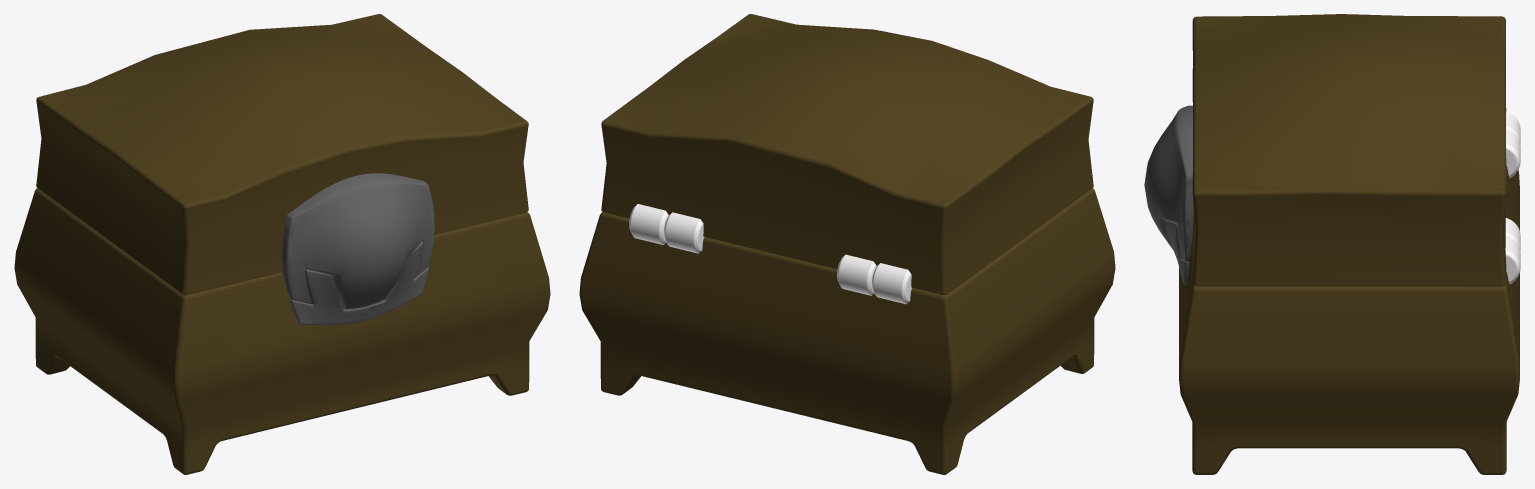
The model's file is chest.glb.
The picture shows the model from 3 angles, left to right: view 1: azimuth 30°, elevation 25°; view 2: azimuth 150°, elevation 25°; view 3: azimuth 270°, elevation 25°; orthographic projection. The views are drawn at different scales.
Visible parts, largest first — view 1: lid, chest, lock top, lock bottom; view 2: lid, chest, hinges; view 3: lid, chest, lock top, hinges, lock bottom.
Part boxes in pixels (bbox=[...]): lid: bbox=[36, 14, 528, 294]; chest: bbox=[14, 188, 550, 474]; lock top: bbox=[282, 173, 434, 309]; lock bottom: bbox=[289, 241, 429, 325]; lid: bbox=[601, 14, 1093, 294]; chest: bbox=[579, 188, 1115, 474]; hinges: bbox=[629, 204, 911, 304]; lid: bbox=[1192, 14, 1506, 286]; chest: bbox=[1179, 166, 1519, 474]; lock top: bbox=[1144, 105, 1193, 261]; hinges: bbox=[1505, 111, 1520, 284]; lock bottom: bbox=[1165, 221, 1189, 285].
Bounding box in the file's own units: 1.17 × 0.9284 × 0.967.
